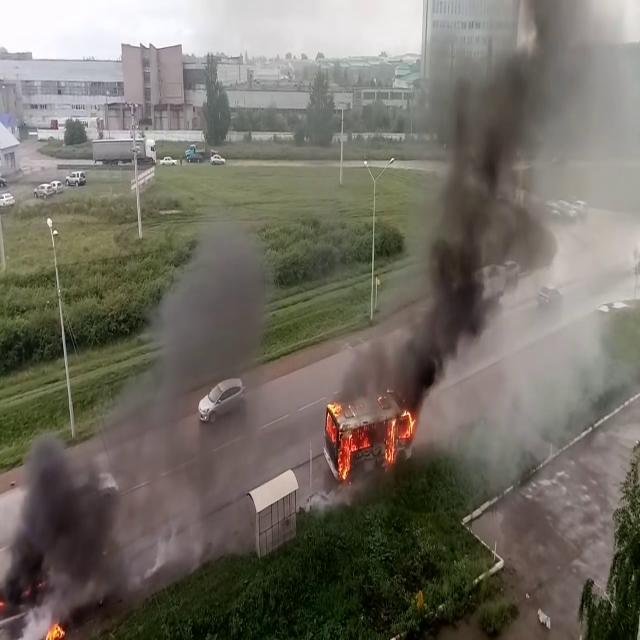Fire: (323, 399, 363, 484), (383, 400, 418, 470), (42, 614, 68, 640)
Smoke: (0, 200, 294, 619), (397, 0, 639, 469)
